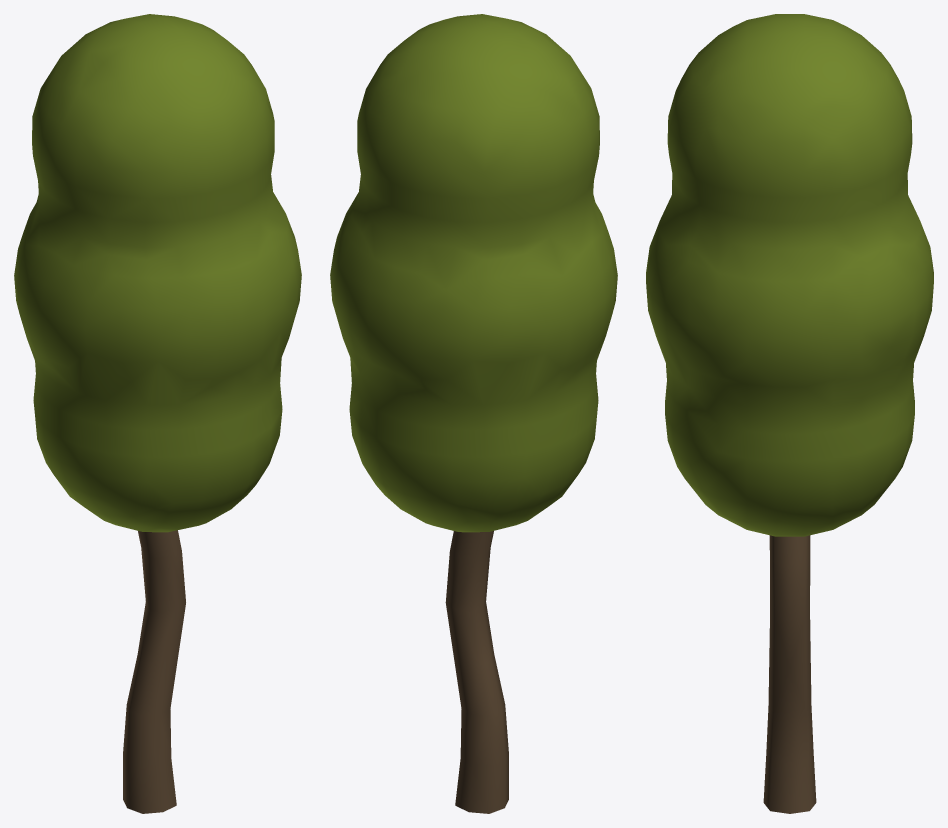
File: tree6.glb
3 views of the same model, side by side, from view 1: azimuth 30°, elevation 25°; view 2: azimuth 150°, elevation 25°; view 3: azimuth 270°, elevation 25° (orthographic).
Parts seen in each view (by area): view 1: Tree_2; view 2: Tree_2; view 3: Tree_2.
Boxes of the visible parts, bbox=[...] form: Tree_2: bbox=[14, 14, 301, 813]; Tree_2: bbox=[330, 14, 617, 813]; Tree_2: bbox=[646, 14, 933, 813].
Bounding box in the file's own units: 2.08 × 6.22 × 2.08.
